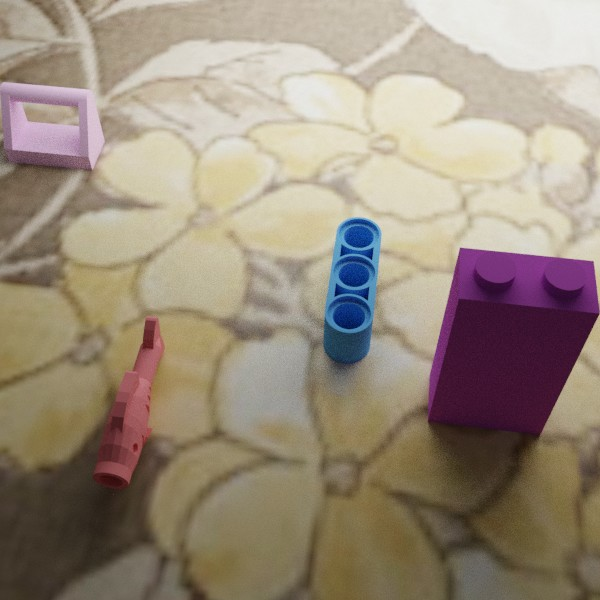lego: (427, 247, 600, 435), (92, 316, 164, 489), (0, 82, 104, 170), (323, 217, 381, 363)
